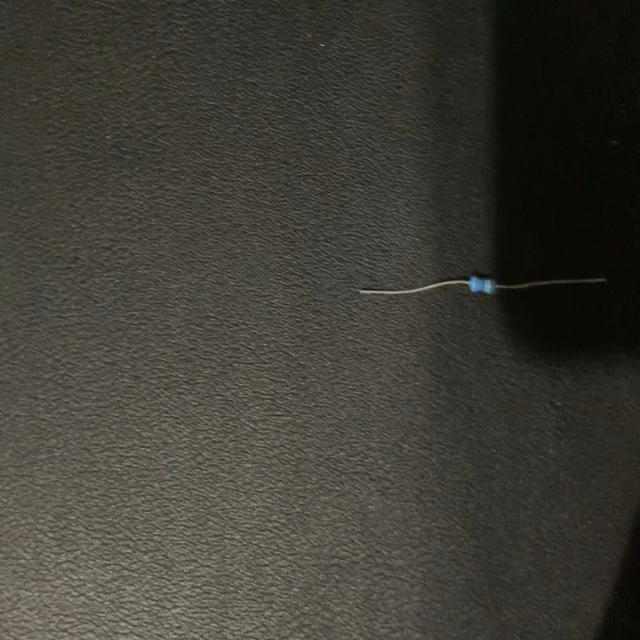resistor: (354, 262, 608, 296)
